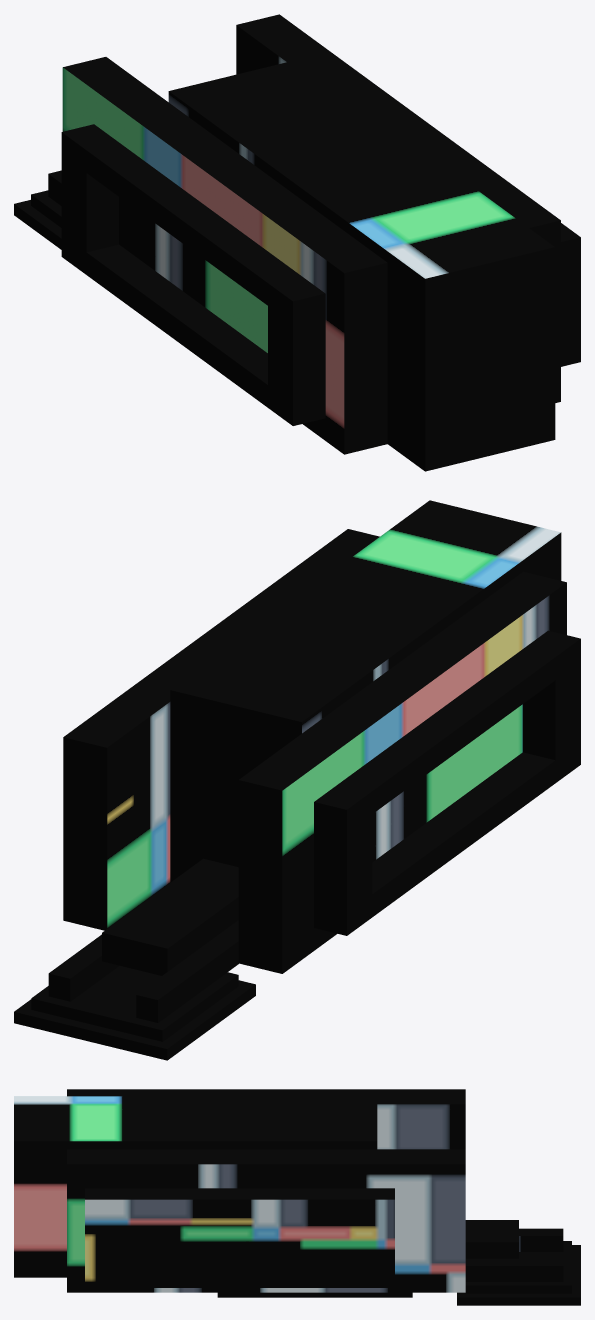
The model's file is launcher_turret_launcher.obj.
3 views of the same model, one above another, from view 1: azimuth 30°, elevation 25°; view 2: azimuth 150°, elevation 25°; view 3: azimuth 270°, elevation 25° (orthographic). The views are drawn at different scales.
Visible parts, largest first — view 1: cube.002, cube, cube.001, cube.006, cube.007, cube.005, cube.004, cube.008, cube.013, cube.009; view 2: cube.002, cube, cube.001, cube.006, cube.007, cube.003, cube.004, cube.009, cube.005, cube.013, cube.010, cube.012; view 3: cube.008, cube.001, cube.002, cube, cube.012, cube.003, cube.013, cube.009, cube.011, cube.010.
Boxes of the visible parts, box(x1,y1,x2,y2) form: cube.002: box(168, 59, 555, 471); cube: box(62, 57, 387, 454); cube.001: box(236, 14, 560, 402); cube.006: box(86, 142, 299, 305); cube.007: box(86, 244, 267, 407); cube.005: box(268, 275, 325, 425); cube.004: box(61, 124, 118, 274); cube.008: box(561, 223, 580, 366); cube.013: box(14, 200, 61, 249); cube.009: box(31, 190, 61, 227); cube.002: box(170, 500, 561, 882); cube: box(238, 571, 566, 973); cube.001: box(63, 529, 379, 930); cube.006: box(339, 649, 555, 813); cube.007: box(372, 752, 555, 916); cube.003: box(102, 858, 238, 975); cube.004: box(314, 783, 372, 935); cube.009: box(31, 966, 238, 1041); cube.005: box(522, 630, 580, 782); cube.013: box(14, 980, 255, 1060); cube.010: box(136, 920, 238, 1022); cube.012: box(48, 934, 119, 1001); cube.008: box(85, 1188, 394, 1287); cube.001: box(67, 1149, 465, 1292); cube.002: box(14, 1096, 377, 1277); cube: box(67, 1089, 465, 1149); cube.012: box(465, 1258, 563, 1281); cube.003: box(465, 1220, 518, 1258); cube.013: box(457, 1245, 580, 1305); cube.009: box(465, 1241, 571, 1293); cube.011: box(217, 1292, 412, 1297); cube.010: box(519, 1228, 563, 1251).
Bounding box in the file's own units: 1.62 × 1.25 × 4.
